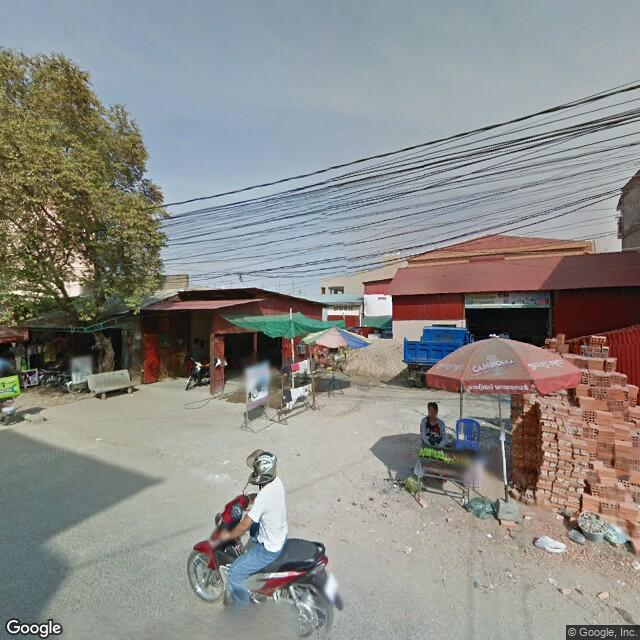litter: (526, 527, 572, 560)
